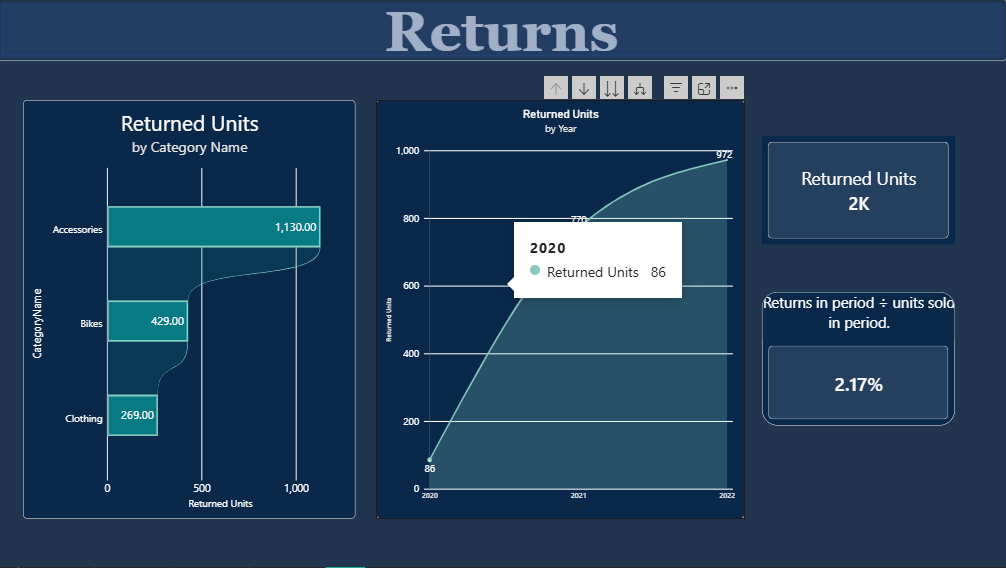

This screenshot's page, from the dashboard's own definition file:
{"tool":"powerbi","page":{"name":"Page 4","canvas":[1920,1080],"ordinal":3},"visuals":[{"type":"textbox","box":[722,0,474,130],"z":0},{"type":"shape","box":[0,0,1920,118],"z":1},{"type":"cardVisual","fields":{"Data":["FactSales.Returned Units"]},"box":[1455.3,260.6,366.9,206.4],"z":2},{"type":"barChart","title":"Returned Units","fields":{"Category":["DimProduct.CategoryName"],"Y":["FactSales.Returned Units"]},"box":[50,191.8,631.7,796.4],"z":3},{"type":"lineChart","fields":{"Category":["DimDate.YearMonth.Variation.Date Hierarchy.Year","DimDate.YearMonth.Variation.Date Hierarchy.Quarter","DimDate.YearMonth.Variation.Date Hierarchy.Month","DimDate.YearMonth.Variation.Date Hierarchy.Day"],"Y":["FactSales.Returned Units"]},"box":[721.4,191.8,700.5,796.4],"z":4},{"type":"cardVisual","title":"Returns in period ÷ units sold in period.","fields":{"Data":["FactSales.Period Return-to-Sales Comparison %"]},"box":[1455.3,556.7,366.9,254.4],"z":5}]}

Visuals, with their boxes in screenshot pixels (x1, y1, x2, y2), scaled from the page's 1920x1080 canvas onto the 1006x568 screenshot:
textbox: bbox=(378, 0, 627, 68)
shape: bbox=(0, 0, 1005, 62)
cardVisual - FactSales.Returned Units: bbox=(763, 137, 955, 246)
"Returned Units" barChart: bbox=(26, 101, 357, 520)
lineChart - DimDate.YearMonth.Variation.Date Hierarchy.Year x DimDate.YearMonth.Variation.Date Hierarchy.Quarter: bbox=(378, 101, 745, 520)
"Returns in period ÷ units sold in period." cardVisual: bbox=(763, 293, 955, 427)
